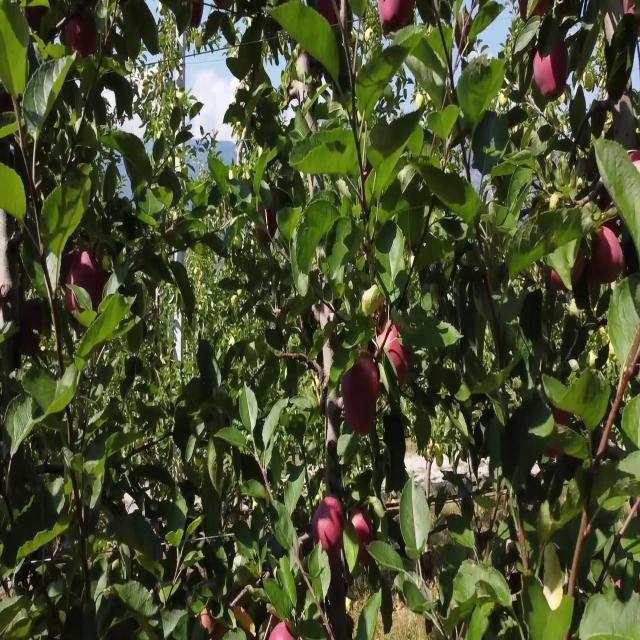apple: (376, 319, 415, 388), (344, 355, 380, 427), (68, 255, 107, 315), (344, 376, 380, 439), (592, 220, 625, 288), (64, 7, 100, 62), (540, 35, 571, 98), (312, 497, 345, 556), (384, 327, 415, 388), (72, 248, 104, 297), (532, 42, 558, 98), (548, 35, 571, 98), (348, 511, 373, 565), (84, 255, 108, 309), (388, 0, 417, 37), (552, 255, 580, 293), (256, 206, 278, 245), (520, 0, 553, 25), (568, 248, 587, 290), (316, 0, 342, 28), (380, 1, 400, 37), (24, 7, 48, 32), (520, 0, 544, 25), (624, 0, 640, 34), (400, 1, 417, 30), (552, 405, 572, 428), (536, 0, 553, 23), (192, 0, 205, 28), (552, 270, 567, 293), (628, 149, 640, 176), (200, 611, 213, 633)
